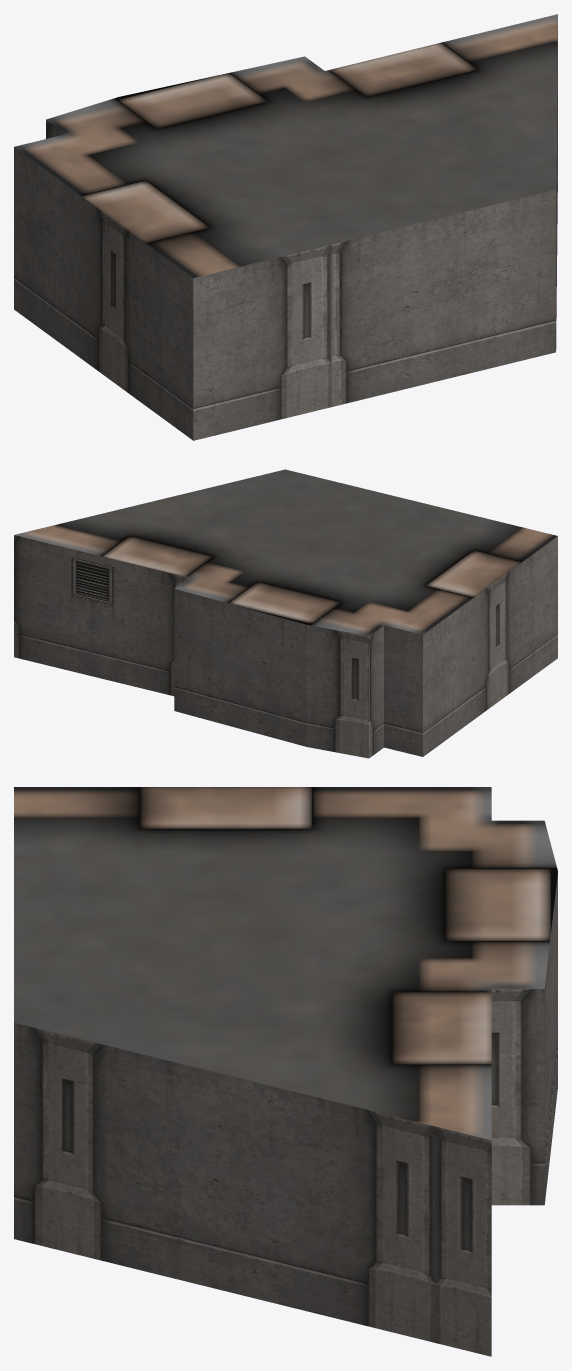
Rendered from building_hard_12.glb.
The picture shows the model from 3 angles, top to bottom: view 1: azimuth 30°, elevation 25°; view 2: azimuth 150°, elevation 25°; view 3: azimuth 270°, elevation 25°; orthographic projection. The views are drawn at different scales.
Visible parts, largest first — view 1: buildings/saxarba/building_hard/building_hard_12; view 2: buildings/saxarba/building_hard/building_hard_12; view 3: buildings/saxarba/building_hard/building_hard_12.
Boxes of the visible parts, x1=… form: buildings/saxarba/building_hard/building_hard_12: x1=14, y1=14, x2=557, y2=440; buildings/saxarba/building_hard/building_hard_12: x1=14, y1=469, x2=557, y2=758; buildings/saxarba/building_hard/building_hard_12: x1=14, y1=787, x2=557, y2=1356.
Bounding box in the file's own units: 63 × 18 × 41.
